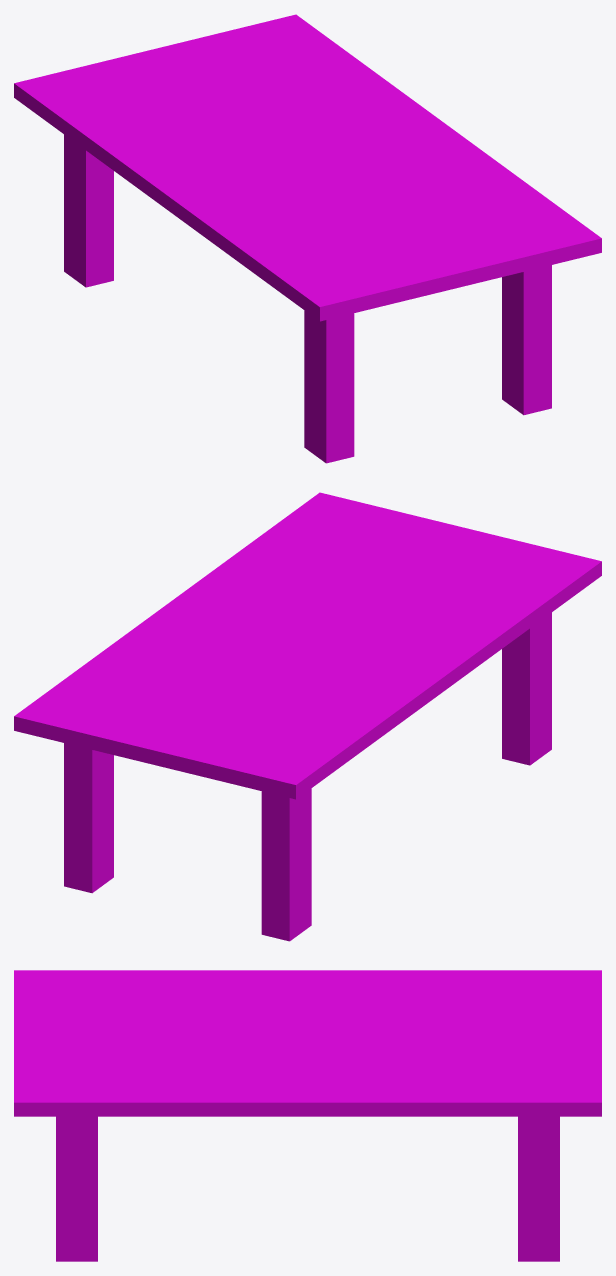
File: desk.fbx
3 renders of one model, top to bottom at view 1: azimuth 30°, elevation 25°; view 2: azimuth 150°, elevation 25°; view 3: azimuth 270°, elevation 25°, orthographic. The views are drawn at different scales.
Visible parts, largest first — view 1: pCube1; view 2: pCube1; view 3: pCube1.
Part boxes in pixels (x1=…): pCube1: x1=14, y1=14, x2=601, y2=463; pCube1: x1=14, y1=492, x2=601, y2=941; pCube1: x1=14, y1=970, x2=601, y2=1261.
Bounding box in the file's own units: 25.86 × 15.7 × 48.56.
